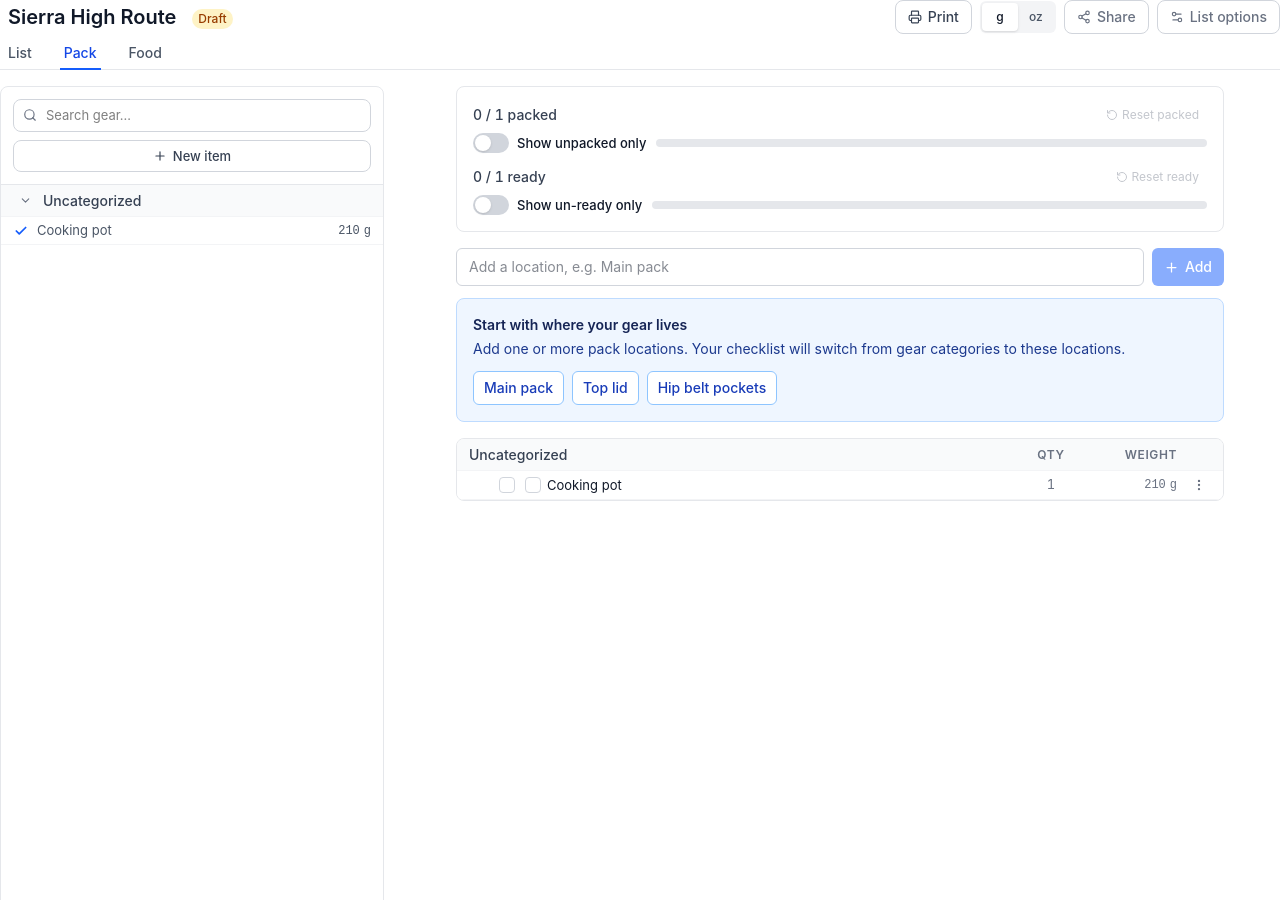
Test: removing gear from Pack view › opens the gear editor from an ordinary pack row
expect the field named "New packing location" is shown: met, box top-left (456, 248), bottom-right (1144, 286)
Click the button named "Open Cooking pot packing options" at (1199, 485), box top-left (1187, 471), bottom-right (1211, 499)
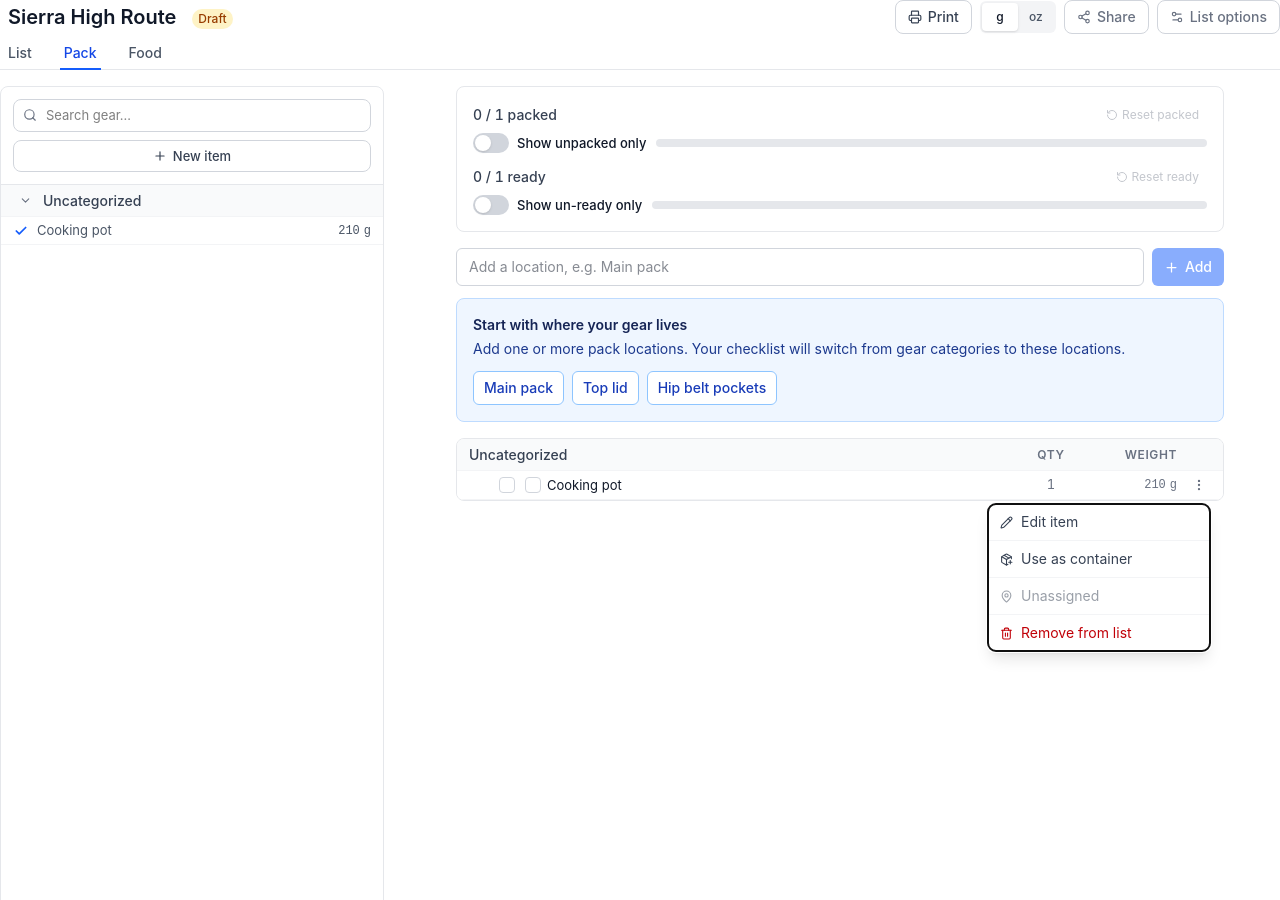
Click the button "Edit item" at (1099, 522), box top-left (988, 508), bottom-right (1210, 536)
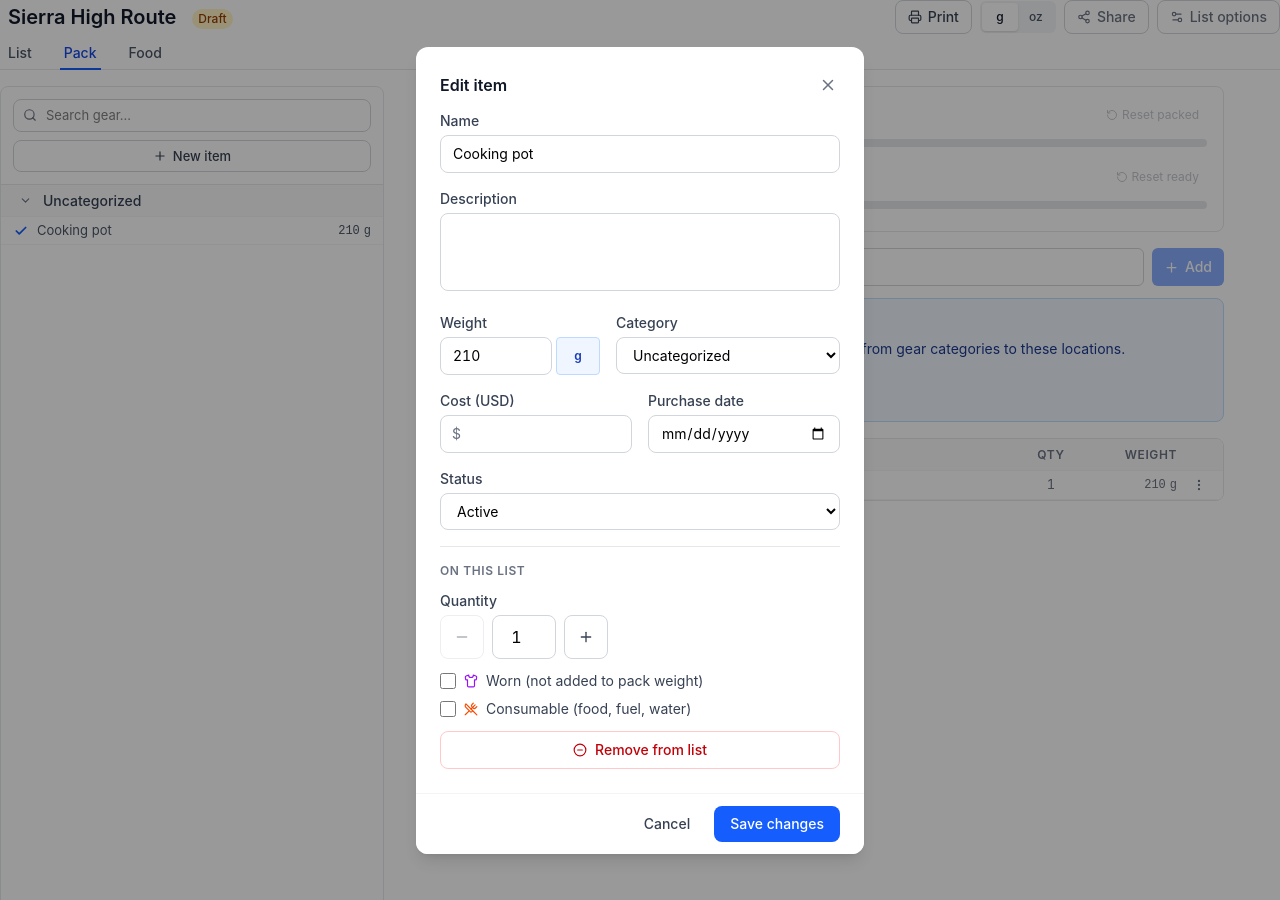
expect the dialog is shown: met, box top-left (416, 46), bottom-right (864, 854)
